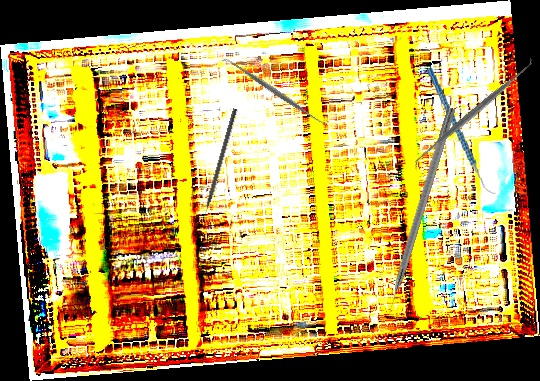Chopper: (426, 62, 498, 201)
Hook Surgical: (381, 106, 456, 317), (198, 108, 239, 226)
Spatula Surgical: (406, 55, 540, 172), (220, 51, 331, 132)
